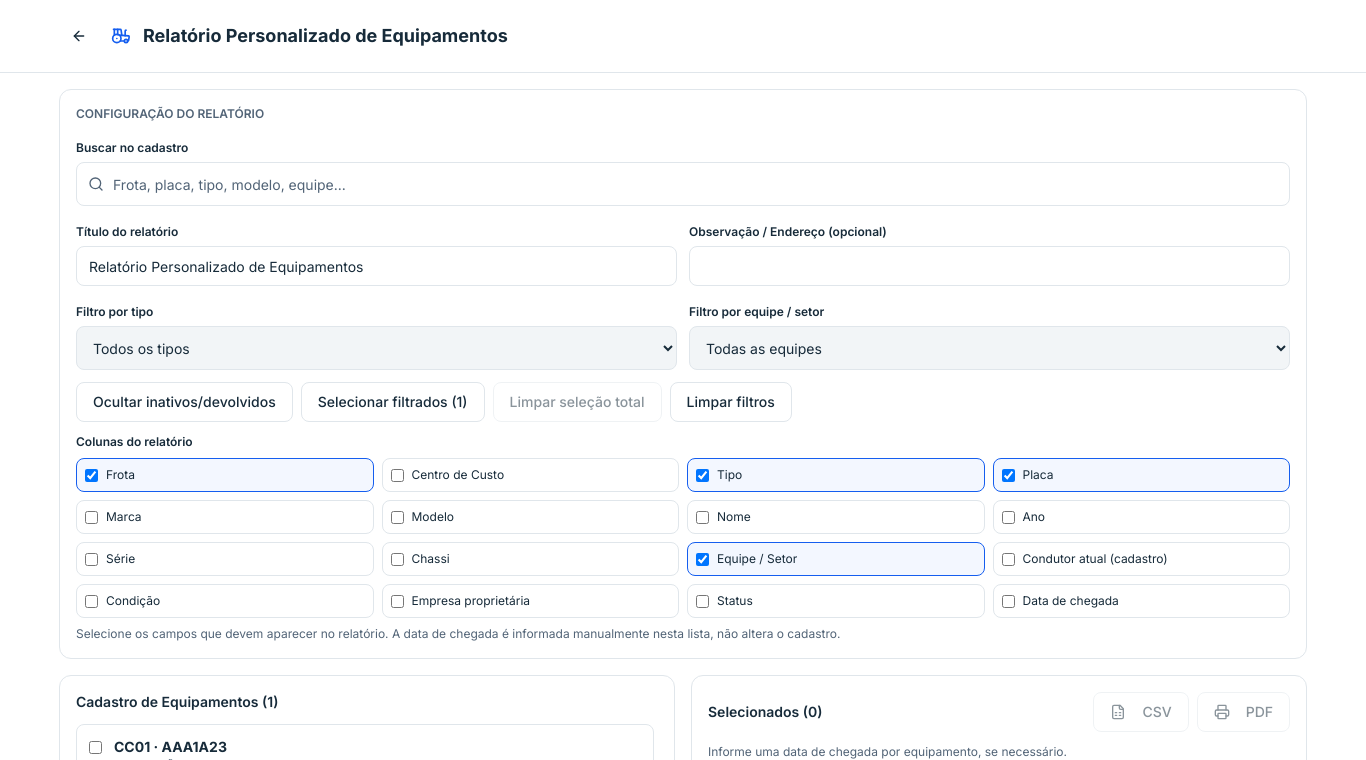
it: Relatório personalizado de equipamentos › lê somente a empresa atual, filtra e monta uma lista manual
Expected: the heading "Cadastro de Equipamentos (1)" is shown, [76,693,278,710]
Click the button "Selecionar filtrados (1)": click(393, 402) [301,382,484,422]
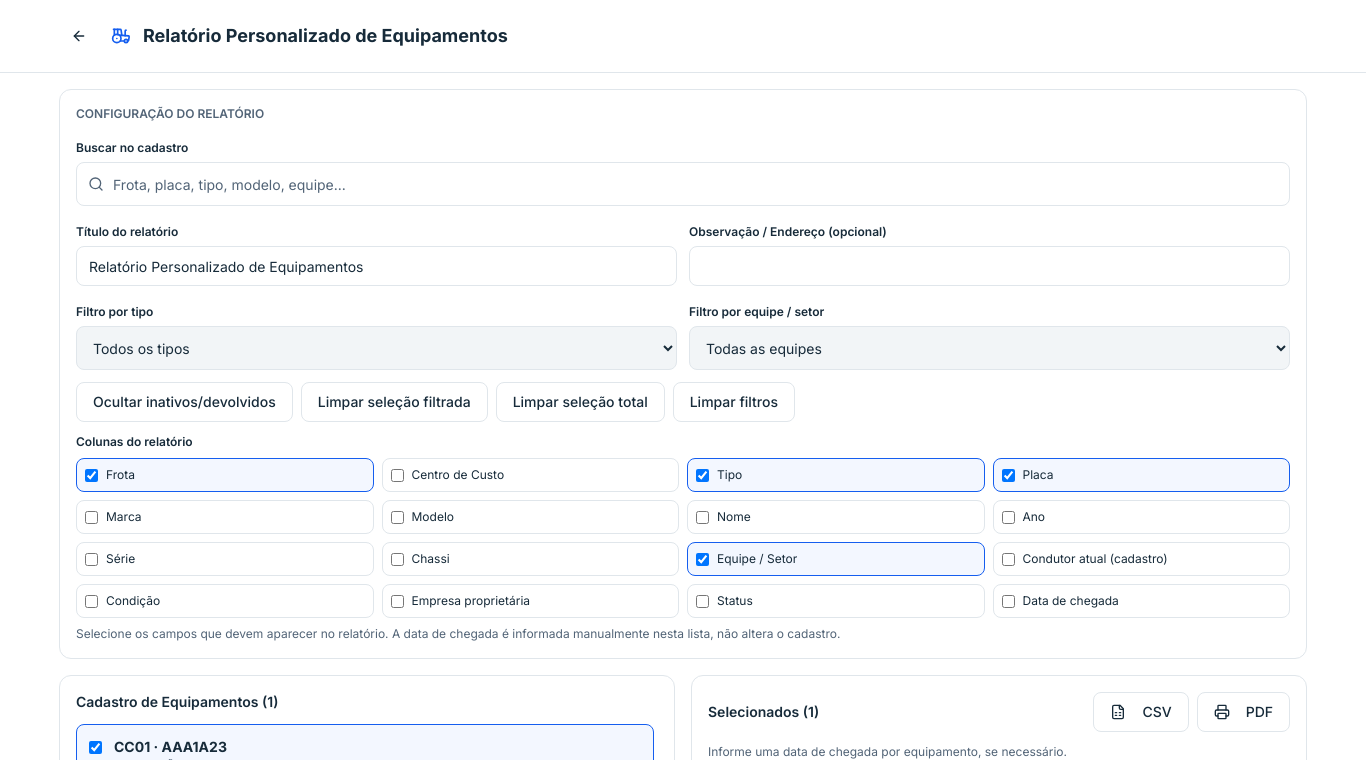
Expected: the heading "Selecionados (1)" is shown, [708,702,819,722]
Click the button "Ocultar inativos/devolvidos": click(184, 402) [76,382,293,422]
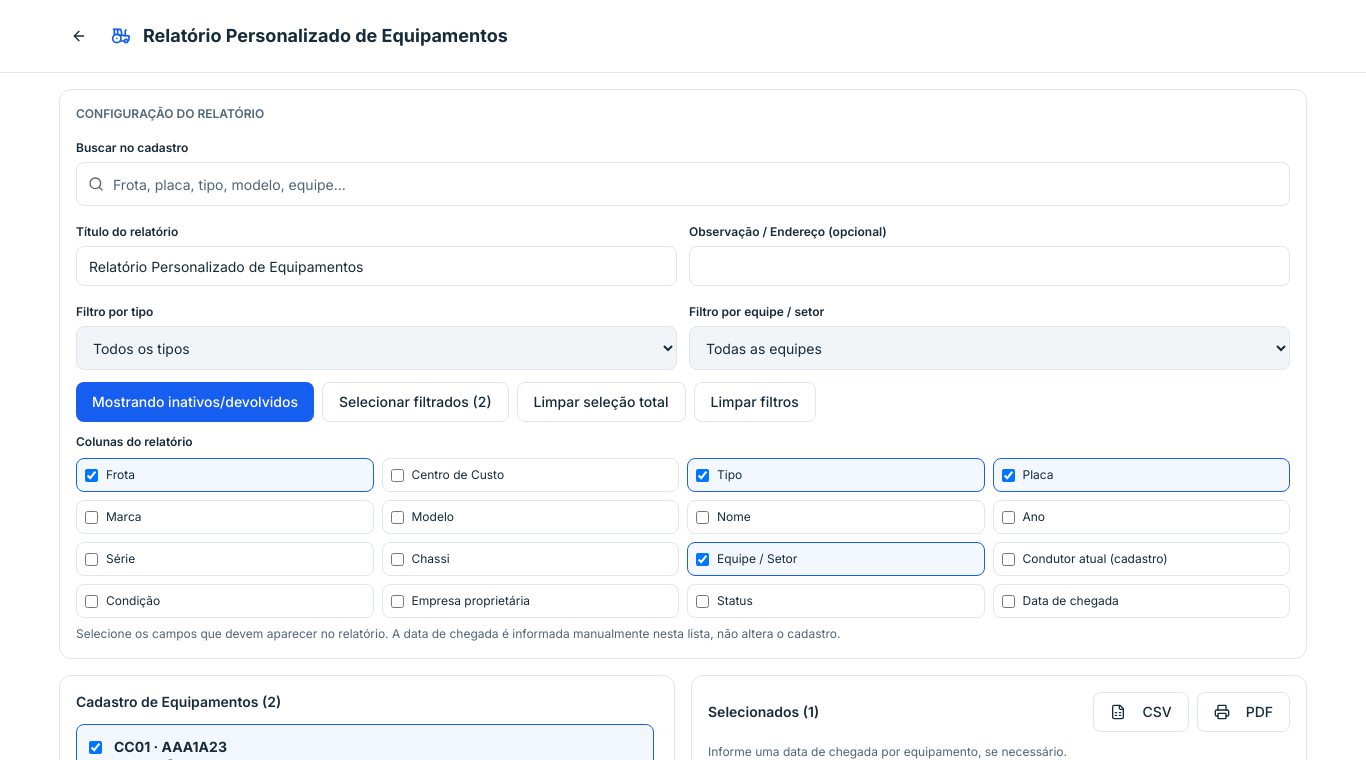
Expected: the heading "Cadastro de Equipamentos (2)" is shown, [76,693,281,710]
